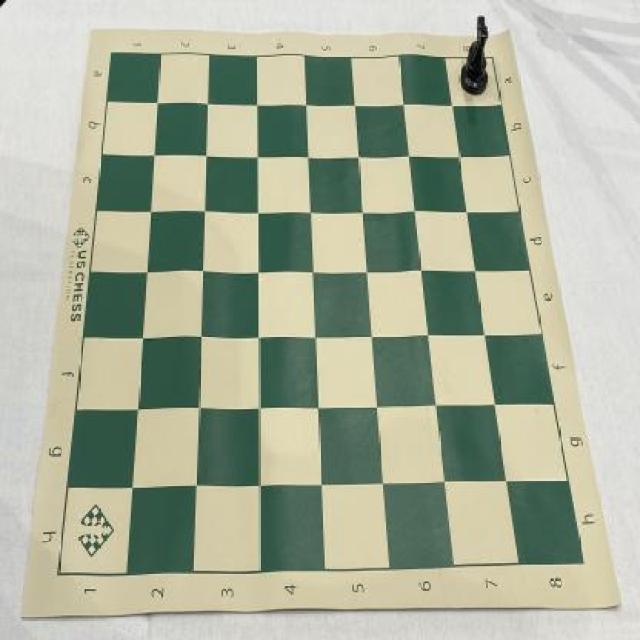black-king: (458, 15, 491, 97)
